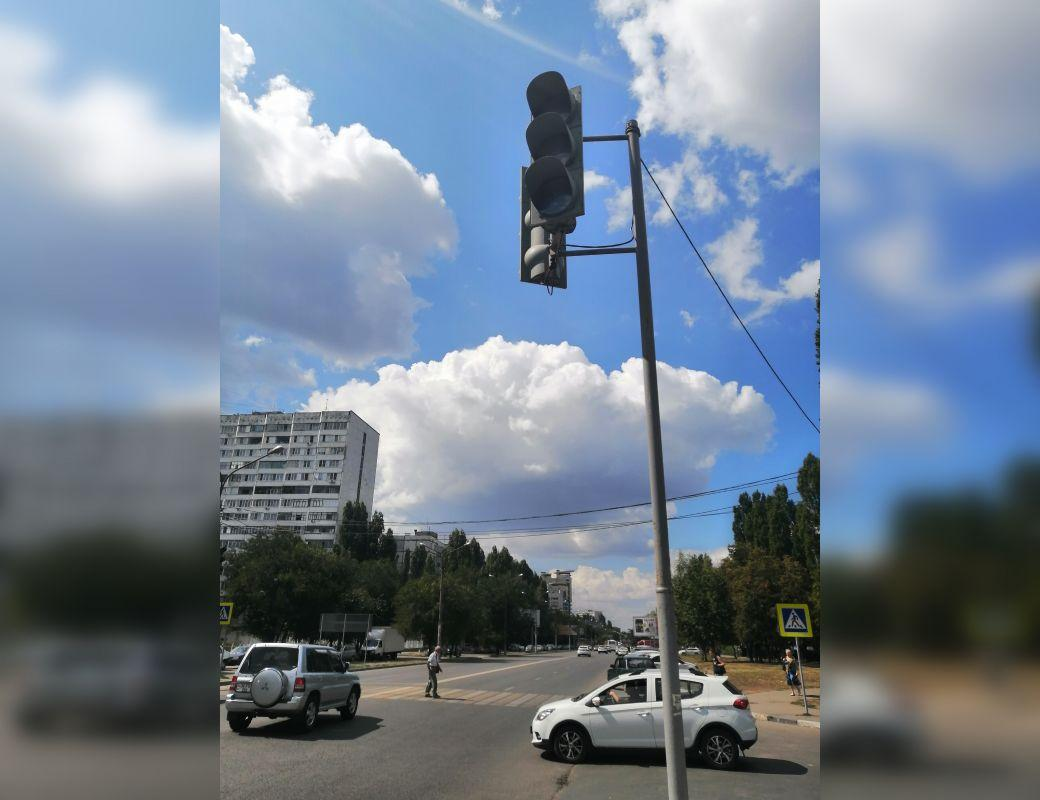off traffic light: (524, 71, 584, 225)
road_sign: (777, 604, 812, 636)
